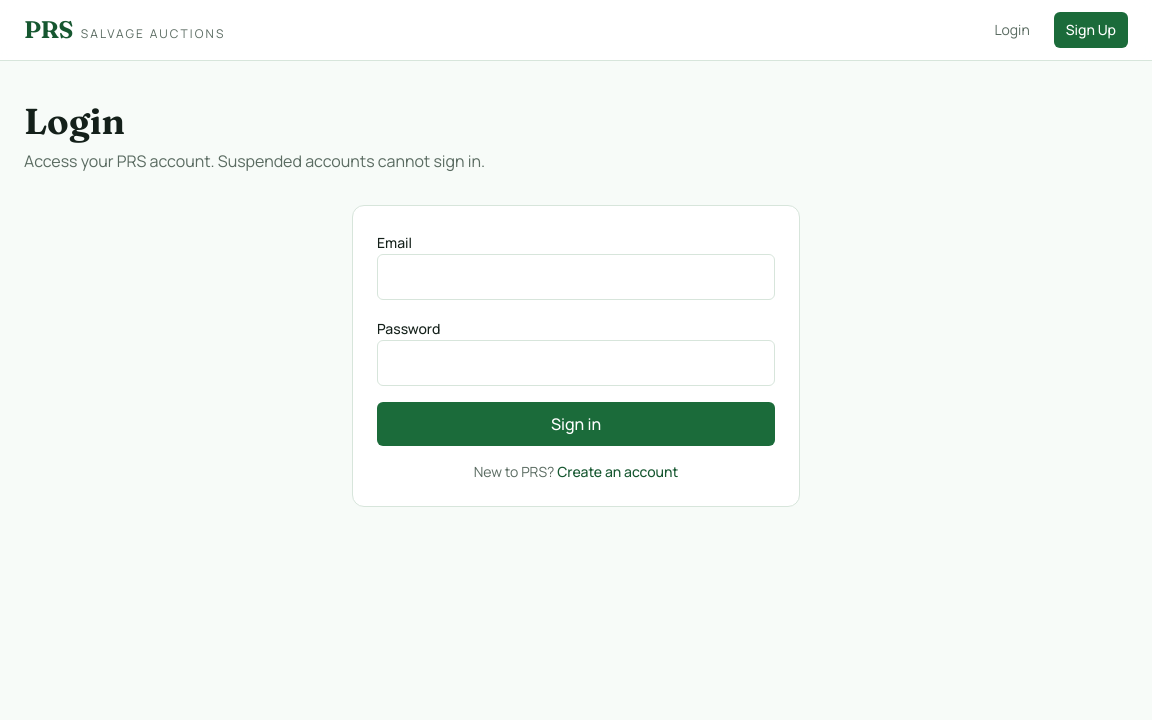
Test case: LoginPage form validation › shows invalid email message
Type "not-email" into the field labelled "Email" at (576, 277), box 377,254 -> 775,300
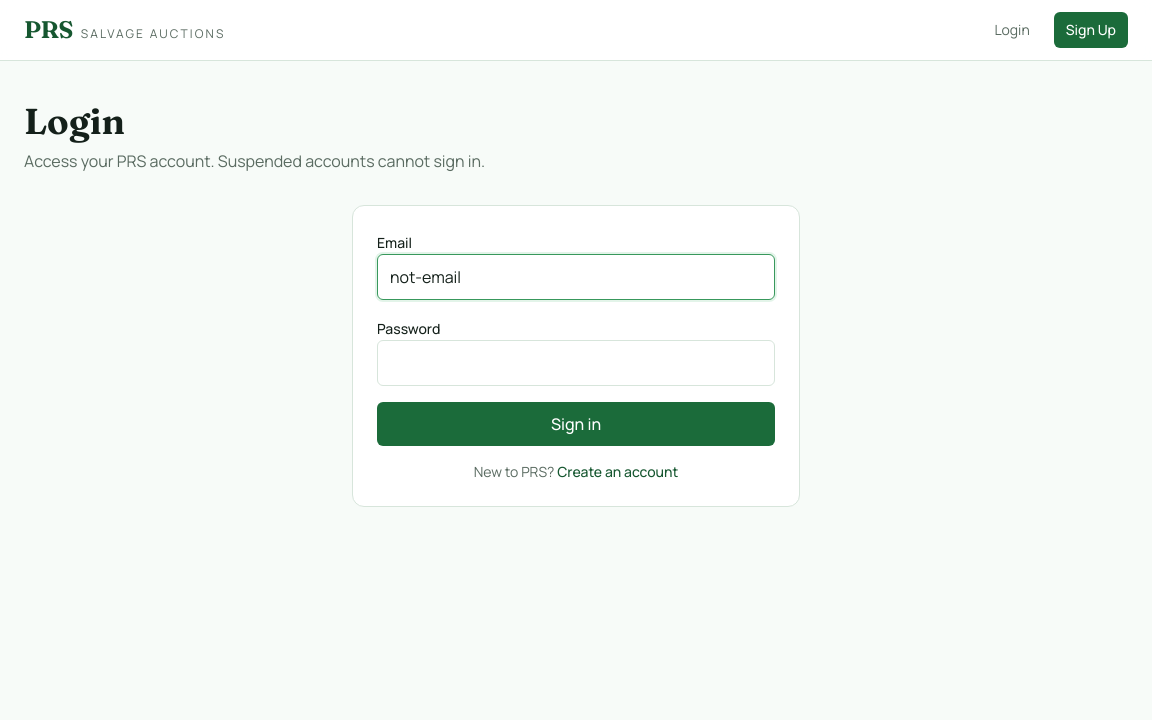
Type "secret" into the password field labelled "Password" at (576, 363), box 377,340 -> 775,386
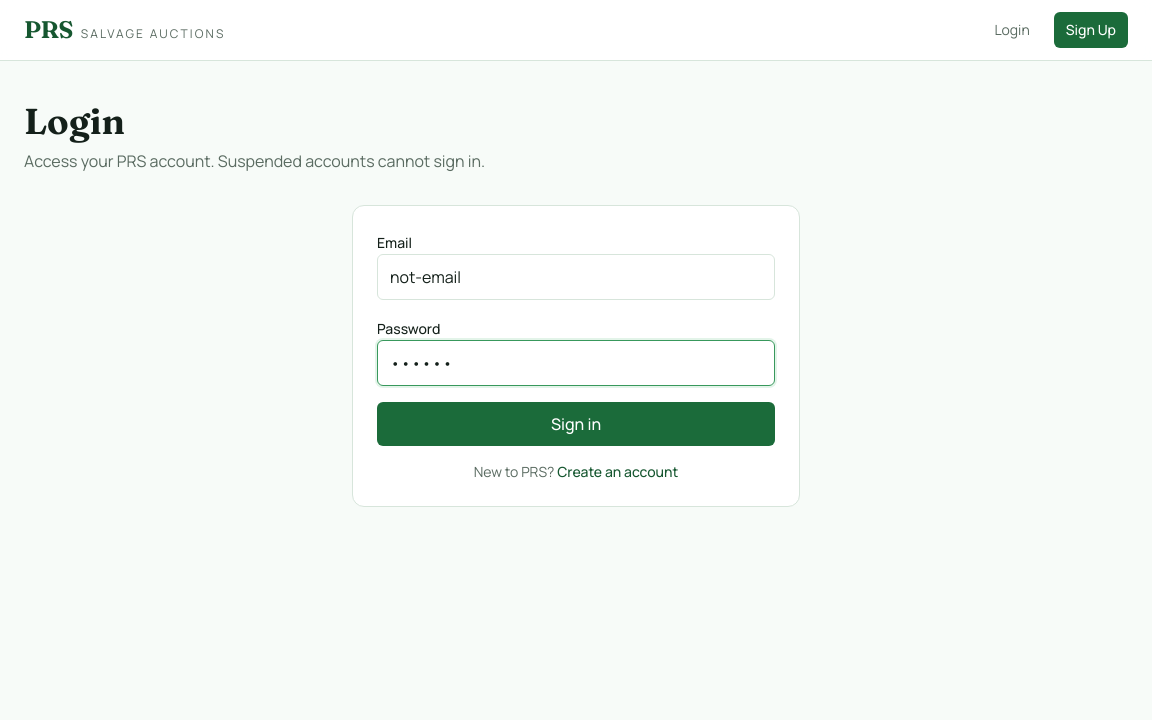
Click the button "Sign in" at (576, 424), box 377,402 -> 775,446
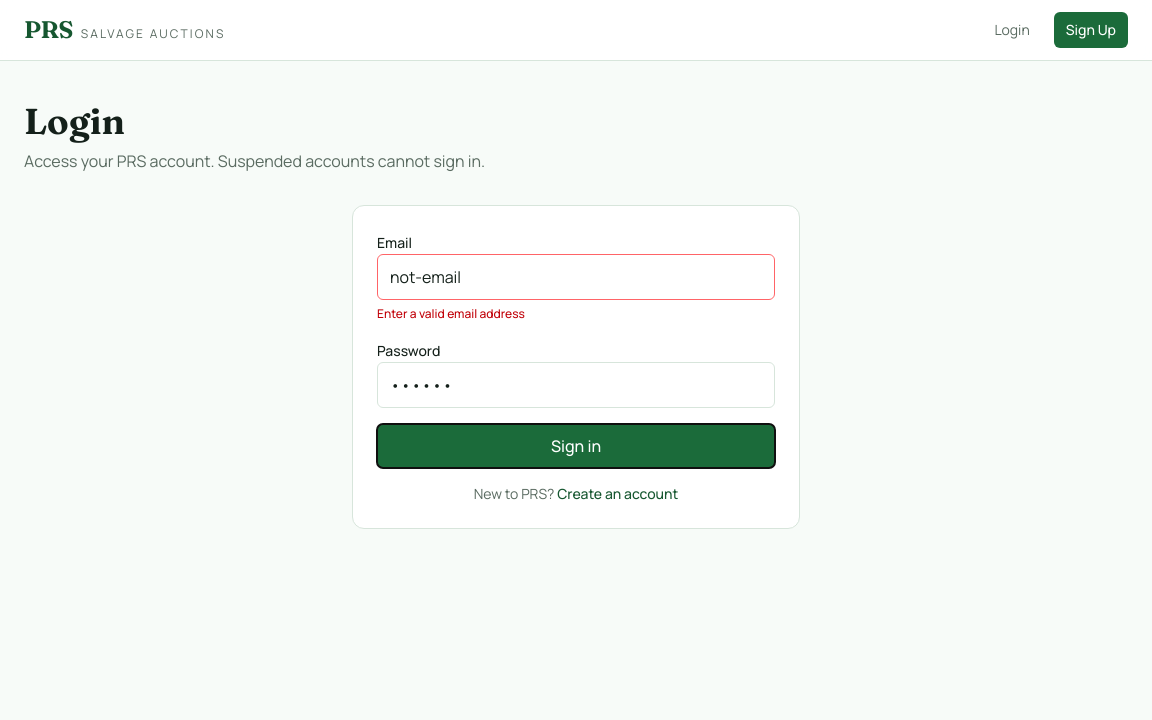
Expected: the text "Enter a valid email address" is shown, 377,305 -> 525,322
